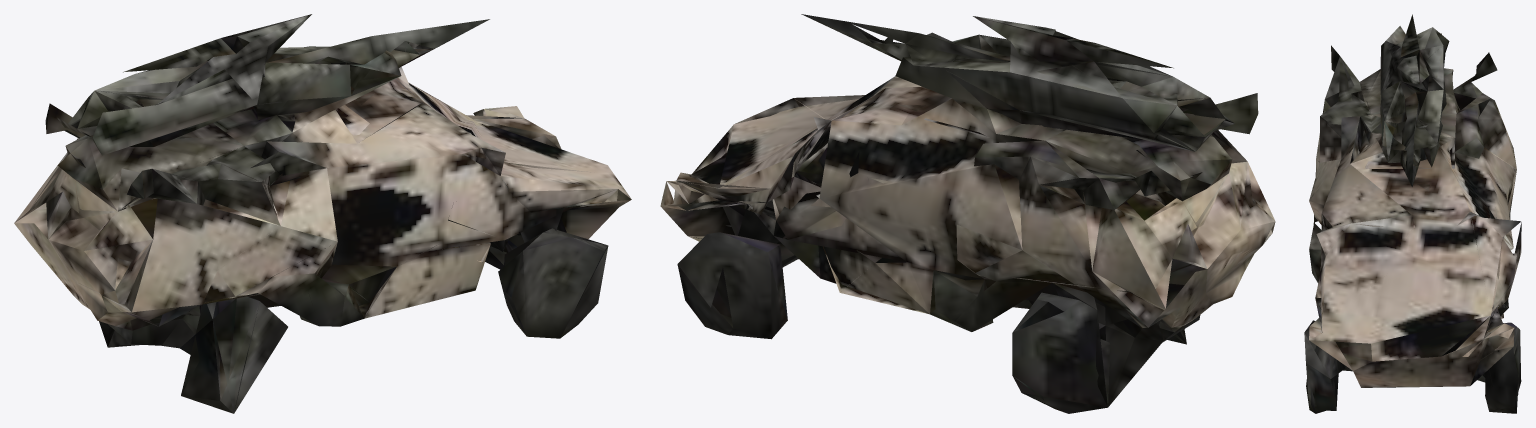
The model's file is grad_mlrs_1748547365_lod0.glb.
3 views of the same model, side by side, from view 1: azimuth 30°, elevation 25°; view 2: azimuth 150°, elevation 25°; view 3: azimuth 270°, elevation 25° (orthographic). The views are drawn at different scales.
Bounding box in the file's own units: 7.94 × 4.71 × 3.59.
1 material, 1 textured.
